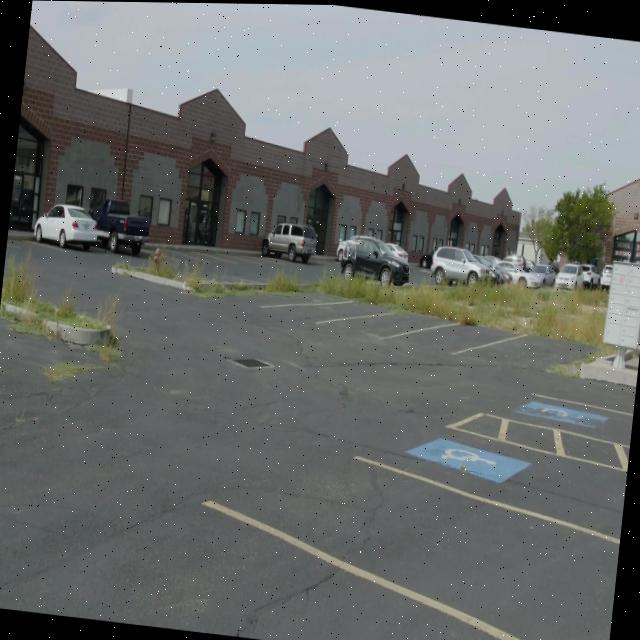drone: (336, 234, 362, 261)
